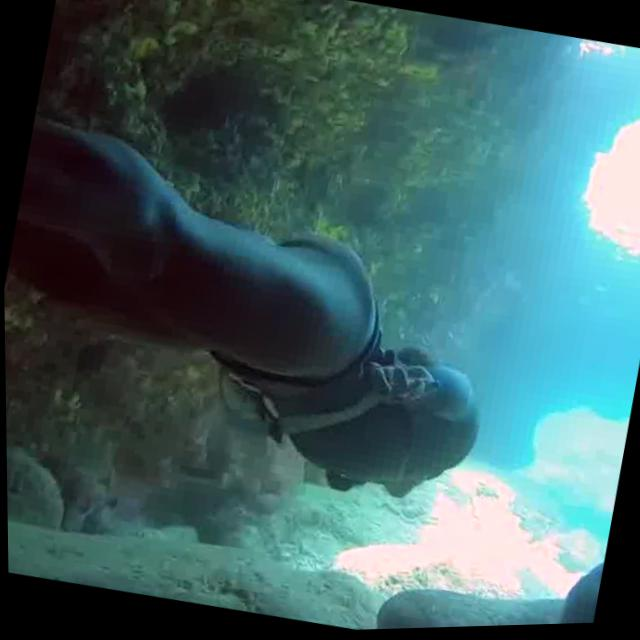human: (1, 35, 553, 546)
